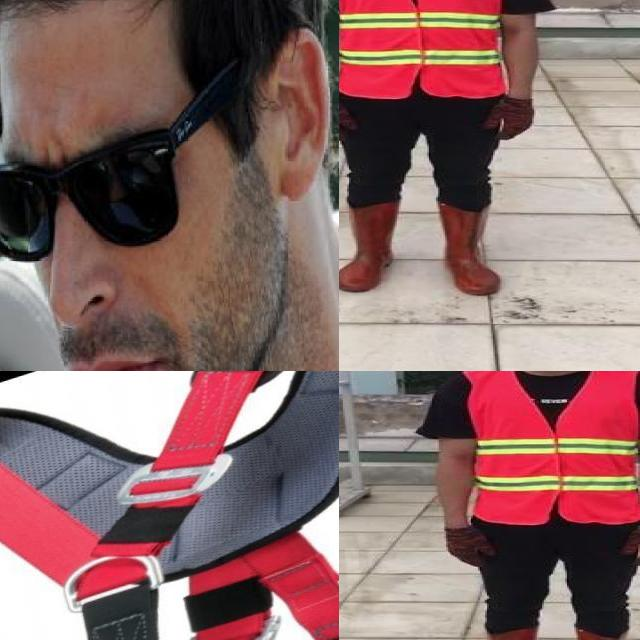Harness: (0, 371, 339, 640)
No_Ear-Protection: (266, 21, 336, 200)
boots: (438, 199, 504, 295), (339, 201, 404, 290)
face_nomask: (0, 128, 213, 371)
glasses: (0, 49, 251, 265)
hand_glove: (442, 524, 500, 569), (486, 98, 536, 142), (339, 98, 361, 143), (624, 524, 640, 568)
head_nohelmet: (0, 0, 287, 54)
person: (0, 0, 339, 371), (339, 0, 551, 295), (415, 371, 640, 640)
vest: (464, 371, 640, 526), (339, 0, 504, 100)
